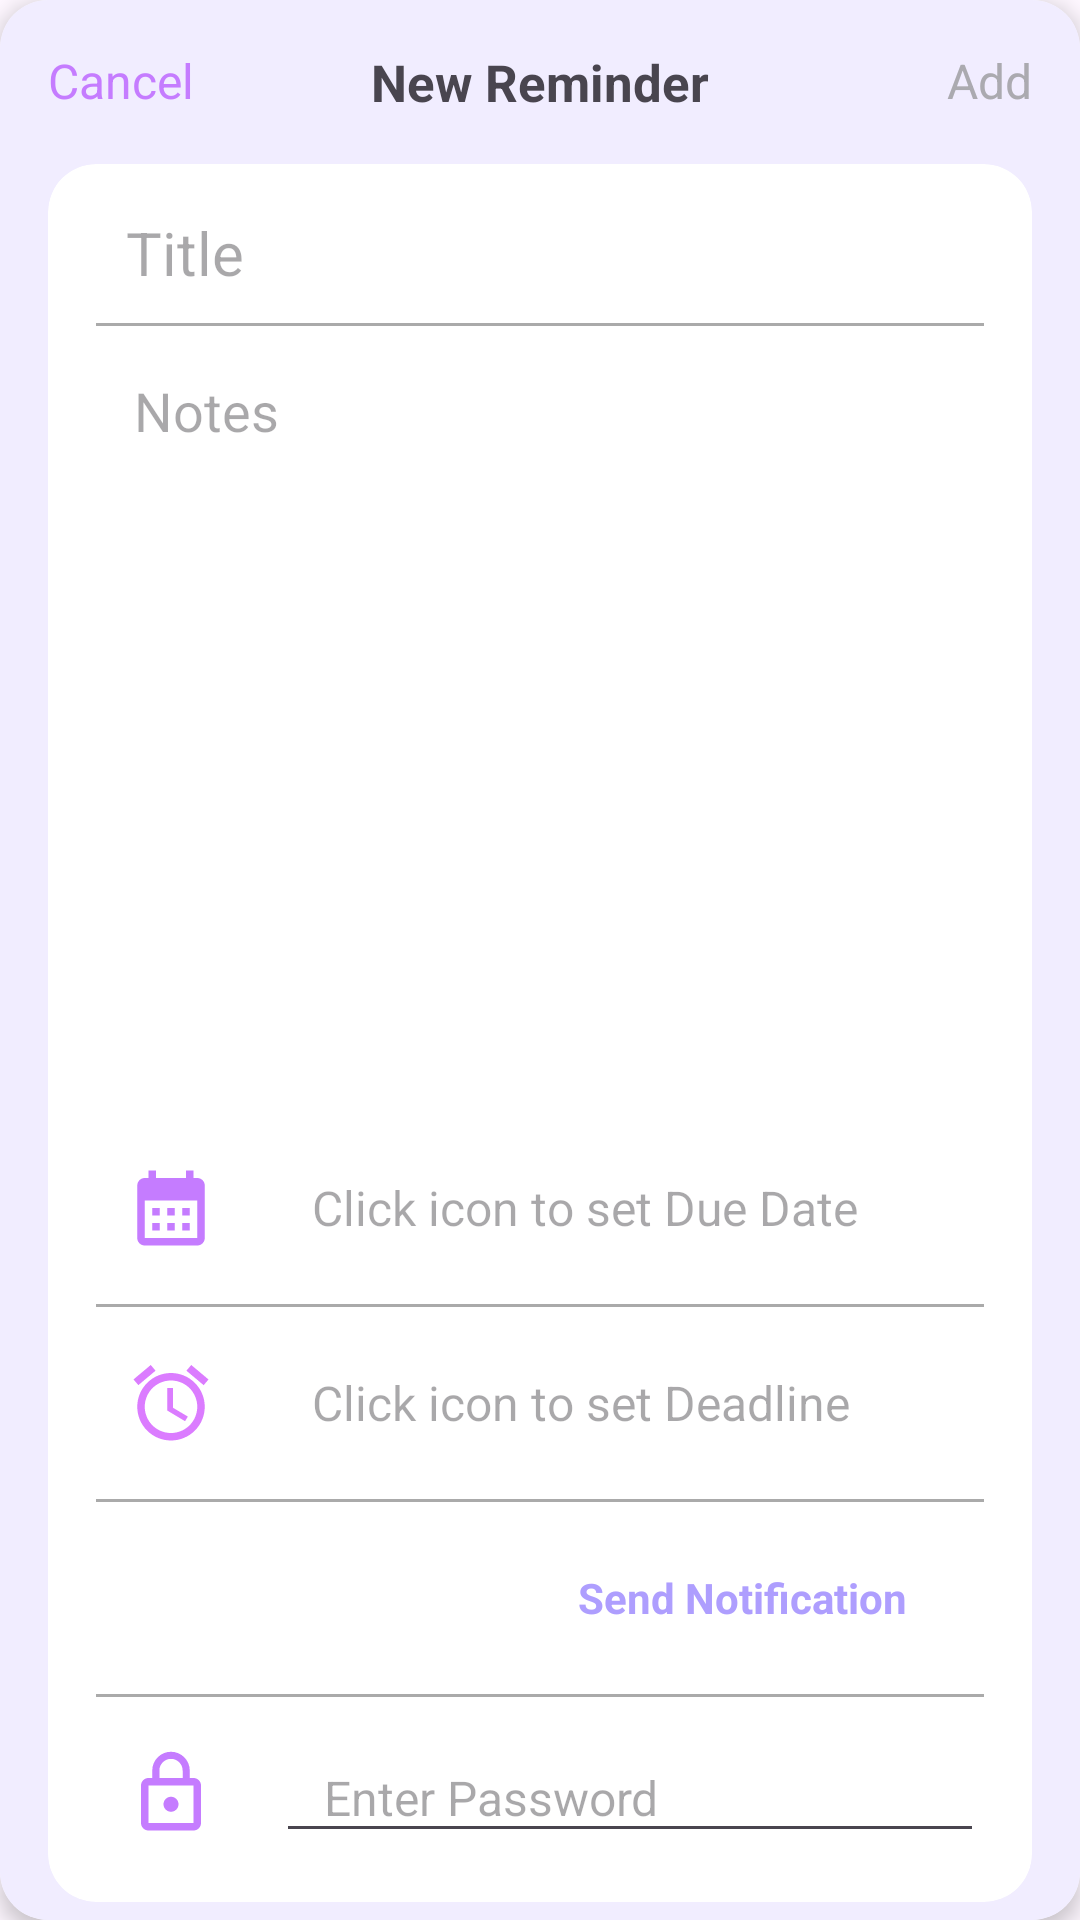

Screen size 1080 × 1920. Icon name, then its box in pixels as (x1, y1, x2, y2):
alarm: (133, 1365, 209, 1441)
calendar: (137, 1170, 205, 1246)
lock: (141, 1751, 201, 1831)
